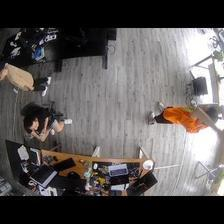normal: (148, 99, 221, 133), (1, 62, 53, 96), (21, 112, 74, 144)
